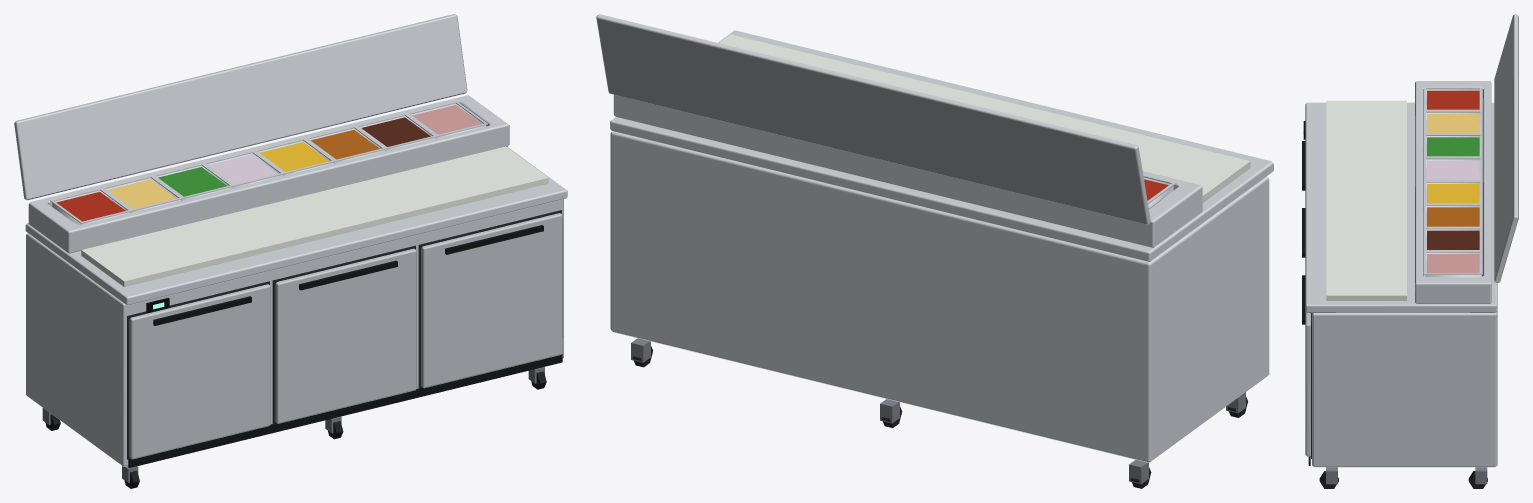
File: pizza-makeline.lod1.glb
The picture shows the model from 3 angles, left to right: view 1: azimuth 30°, elevation 25°; view 2: azimuth 150°, elevation 25°; view 3: azimuth 270°, elevation 25°; orthographic projection. The views are drawn at different scales.
Visible parts, largest first — view 1: BODY, FOOD; view 2: BODY; view 3: BODY, FOOD.
Part boxes in pixels (x1=…): BODY: x1=14, y1=14, x2=567, y2=488; FOOD: x1=56, y1=105, x2=481, y2=221; BODY: x1=596, y1=14, x2=1273, y2=488; BODY: x1=1302, y1=14, x2=1518, y2=488; FOOD: x1=1427, y1=90, x2=1479, y2=273.
Size of the model in its own units: 2 by 1.28 by 0.9019.
